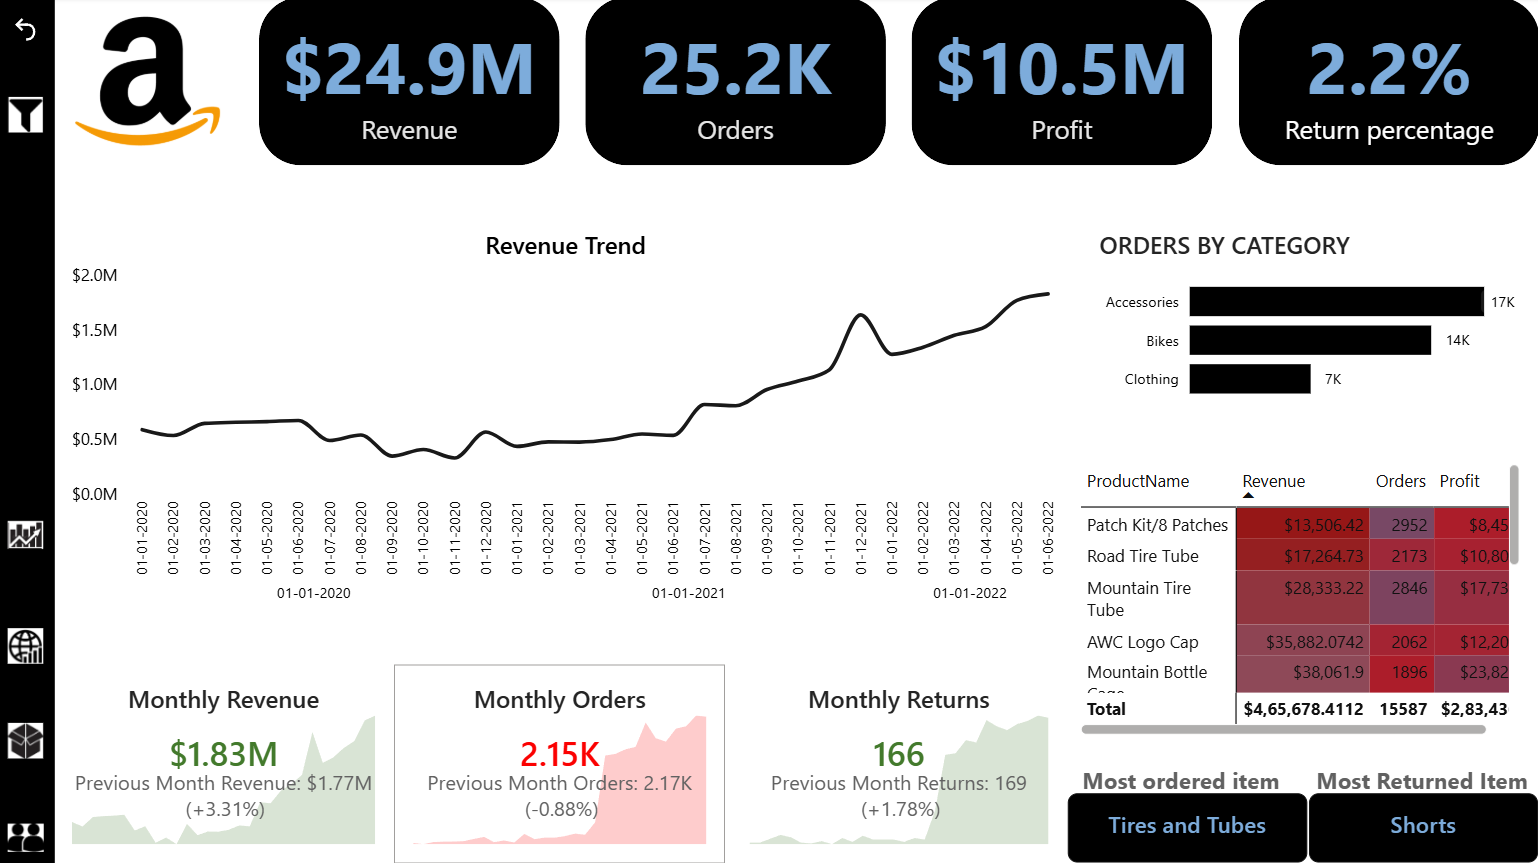

Layout of this report page (visuals, bound fields, positions):
{"tool":"powerbi","page":{"name":"Exe dashborard","canvas":[1280,720],"ordinal":0},"visuals":[{"type":"image","title":"Amazon logo","box":[0,0,247.1,140],"z":0},{"type":"card","fields":{"Values":["Table Measure.Total Revenue"]},"box":[215.7,0,250,140],"z":0,"group":"g2"},{"type":"shape","box":[215.7,0,250,140],"z":0,"group":"g1"},{"type":"group","id":"g1","title":"Kpi background","box":[215.7,0,1064.3,140],"z":0,"group":"g3"},{"type":"actionButton","box":[0,425,44.2,43.7],"z":0,"group":"g4"},{"type":"group","id":"g2","title":"KPI values","box":[215.7,0,1064.3,140],"z":1000,"group":"g3"},{"type":"card","fields":{"Values":["Table Measure.Total Orders"]},"box":[487.1,0,250,140],"z":1000,"group":"g2"},{"type":"shape","box":[487.1,0,250,140],"z":1000,"group":"g1"},{"type":"actionButton","box":[0,517.2,44.2,43.7],"z":1000,"group":"g4"},{"type":"group","id":"g3","title":"KPI","box":[215.7,0,1064.3,140],"z":2000},{"type":"shape","box":[758.6,0,250,140],"z":2000,"group":"g1"},{"type":"card","fields":{"Values":["Table Measure.Return Rate"]},"box":[1030,0,250,140],"z":2000,"group":"g2"},{"type":"actionButton","box":[0,677.5,44.5,43.4],"z":2000,"group":"g4"},{"type":"card","fields":{"Values":["Table Measure.Total Profit"]},"box":[758.6,0,250,140],"z":3000,"group":"g2"},{"type":"shape","box":[1030,0,250,140],"z":3000,"group":"g1"},{"type":"lineChart","title":"Revenue Trend","fields":{"Category":["Calendar Lookup.Date Hierarchy.Start of Year","Calendar Lookup.Date Hierarchy.Start of Month","Calendar Lookup.Date Hierarchy.Start of Week","Calendar Lookup.Date Hierarchy.Date"],"Y":["Table Measure.Total Revenue"]},"box":[43.8,177.5,855,351.2],"z":3000},{"type":"actionButton","box":[0,595.3,44.2,45.3],"z":3000,"group":"g4"},{"type":"kpi","title":"Monthly Revenue","fields":{"Goal":["Table Measure.Previous Month Revenue"],"Indicator":["Table Measure.Total Revenue"],"TrendLine":["Calendar Lookup.Start of Month"]},"box":[44.3,554.9,284,165.4],"z":4000},{"type":"kpi","title":"Monthly Orders","fields":{"Goal":["Table Measure.Previous Month Orders"],"Indicator":["Table Measure.Total Orders"],"TrendLine":["Calendar Lookup.Start of Month"]},"box":[328.4,554.9,275.7,165.4],"z":5000},{"type":"kpi","title":"Monthly Returns","fields":{"Goal":["Table Measure.Previous Month returns"],"Indicator":["Table Measure.Total Retuns"],"TrendLine":["Calendar Lookup.Start of Month"]},"box":[607.6,554.9,280.4,165.4],"z":6000},{"type":"clusteredBarChart","title":"ORDERS BY CATEGORY","fields":{"Category":["Product Categories Lookup.CategoryName"],"Y":["Table Measure.Total Orders"]},"box":[898.9,177.4,381.1,182.2],"z":7000},{"type":"pivotTable","fields":{"Rows":["Product Categories Lookup.CategoryName","Product Lookup.ProductName"],"Values":["Table Measure.Total Revenue","Table Measure.Total Orders","Table Measure.Total Profit"]},"box":[883.3,373.9,396.7,255.3],"z":8000},{"type":"card","title":"MOST ORDERED PRODUCT TYPE","fields":{"Values":["Min(Product Subcategories Lookup.SubcategoryName)"]},"box":[888.1,661.6,199,57.5],"z":9000},{"type":"card","title":"MOST RETURNED ","fields":{"Values":["Min(Product Subcategories Lookup.SubcategoryName)"]},"box":[1089.3,662.2,190.4,57.7],"z":10000},{"type":"shape","title":"Left side bar","box":[0,0,46.7,720],"z":10500},{"type":"textbox","box":[883,637.7,199.1,24.5],"z":11000},{"type":"textbox","box":[1088.2,637.6,190.6,25.2],"z":12000},{"type":"actionButton","box":[0,0,44.7,53.4],"z":13000},{"type":"group","id":"g4","title":"Navigation button","box":[0,425,44,295],"z":14000},{"type":"actionButton","box":[0,75.5,44.3,44.3],"z":15000}]}

Visuals, with their boxes on the page's 1280x720 design canvas (x1, y1, x2, y2). These are canvas units, not pixel positions in the 1538x863 screenshot, which may show the page scaled, cropped or inside an application window:
"Amazon logo" image: bbox=[0, 0, 247, 140]
card - Table Measure.Total Revenue: bbox=[216, 0, 466, 140]
shape: bbox=[216, 0, 466, 140]
"Kpi background" group: bbox=[216, 0, 1280, 140]
actionButton: bbox=[0, 425, 44, 469]
"KPI values" group: bbox=[216, 0, 1280, 140]
card - Table Measure.Total Orders: bbox=[487, 0, 737, 140]
shape: bbox=[487, 0, 737, 140]
actionButton: bbox=[0, 517, 44, 561]
"KPI" group: bbox=[216, 0, 1280, 140]
shape: bbox=[759, 0, 1009, 140]
card - Table Measure.Return Rate: bbox=[1030, 0, 1280, 140]
actionButton: bbox=[0, 678, 44, 721]
card - Table Measure.Total Profit: bbox=[759, 0, 1009, 140]
shape: bbox=[1030, 0, 1280, 140]
"Revenue Trend" lineChart: bbox=[44, 178, 899, 529]
actionButton: bbox=[0, 595, 44, 641]
"Monthly Revenue" kpi: bbox=[44, 555, 328, 720]
"Monthly Orders" kpi: bbox=[328, 555, 604, 720]
"Monthly Returns" kpi: bbox=[608, 555, 888, 720]
"ORDERS BY CATEGORY" clusteredBarChart: bbox=[899, 177, 1280, 360]
pivotTable - Product Categories Lookup.CategoryName x Product Lookup.ProductName: bbox=[883, 374, 1280, 629]
"MOST ORDERED PRODUCT TYPE" card: bbox=[888, 662, 1087, 719]
"MOST RETURNED " card: bbox=[1089, 662, 1280, 720]
"Left side bar" shape: bbox=[0, 0, 47, 720]
textbox: bbox=[883, 638, 1082, 662]
textbox: bbox=[1088, 638, 1279, 663]
actionButton: bbox=[0, 0, 45, 53]
"Navigation button" group: bbox=[0, 425, 44, 720]
actionButton: bbox=[0, 76, 44, 120]
